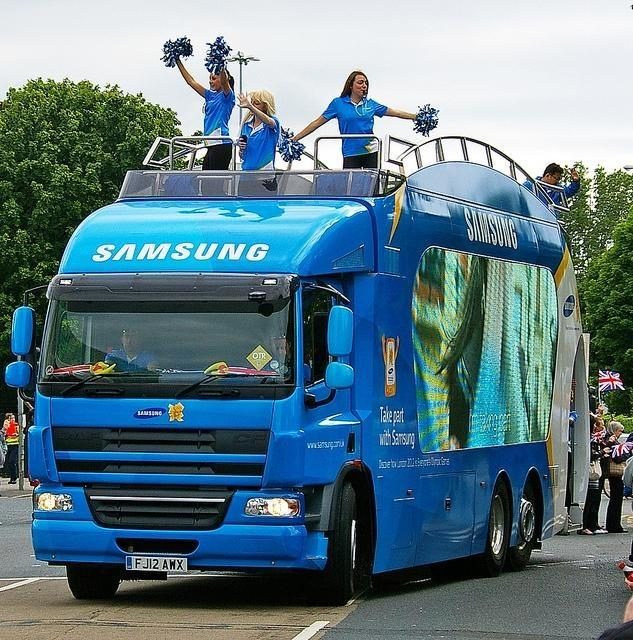bus: (0, 142, 574, 557)
truck: (33, 138, 580, 600)
